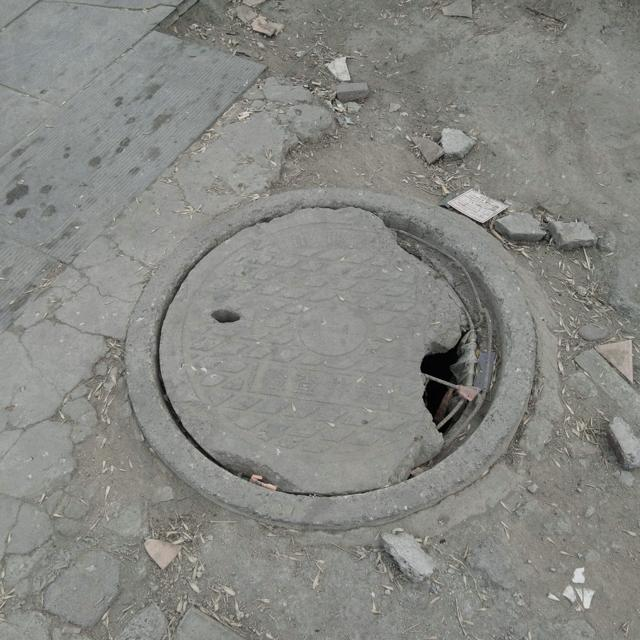broke: (122, 186, 537, 535)
